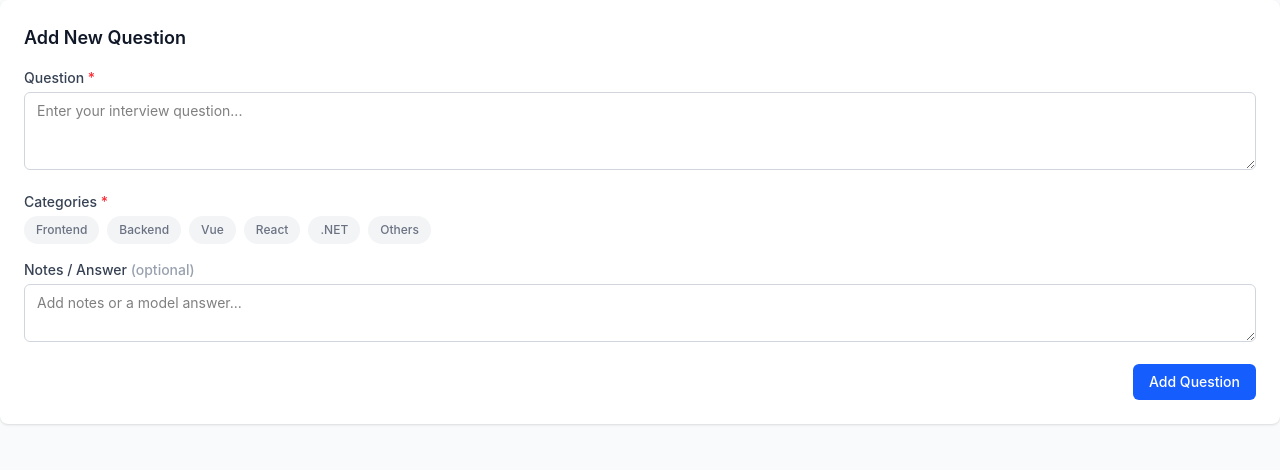
Test: QuestionForm › add mode › shows validation error when no category selected
Type "Some question" into the text box labelled "Question *".
click(640, 131); type("Some question")  # box [24,92,1256,170]
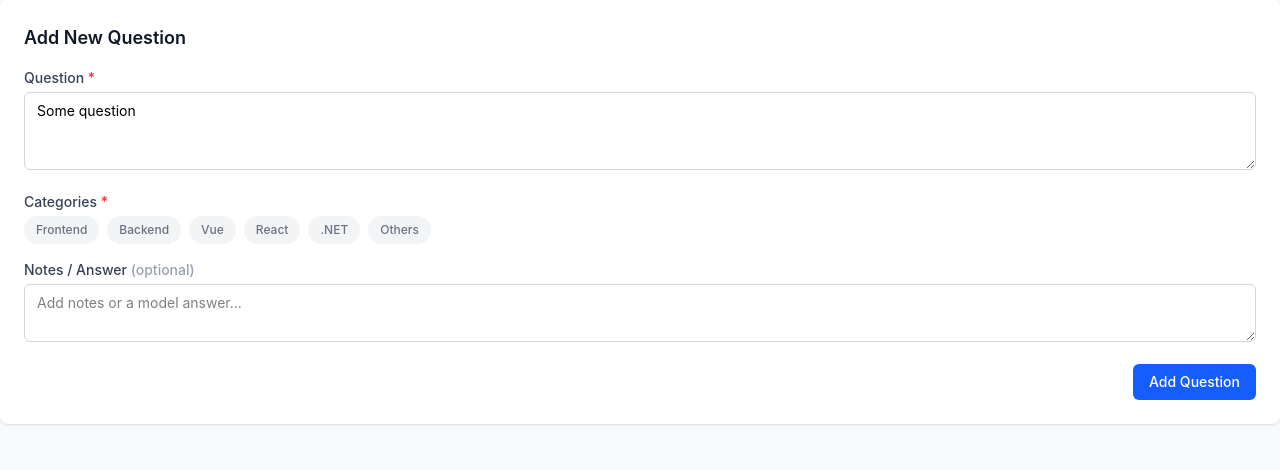
Submit the form
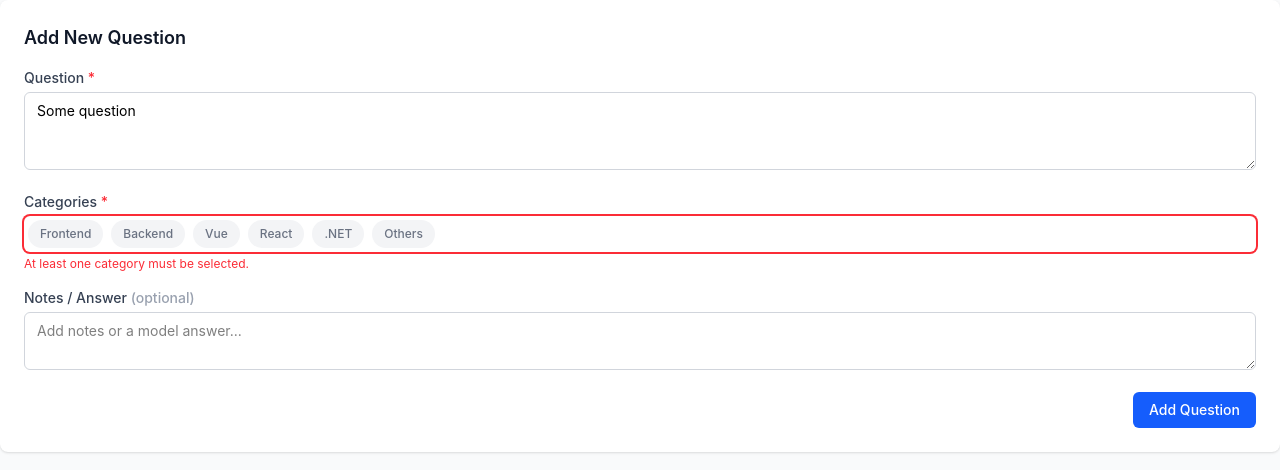
Check: the form shows "At least one category must be selected.", box [24,256,249,271]
